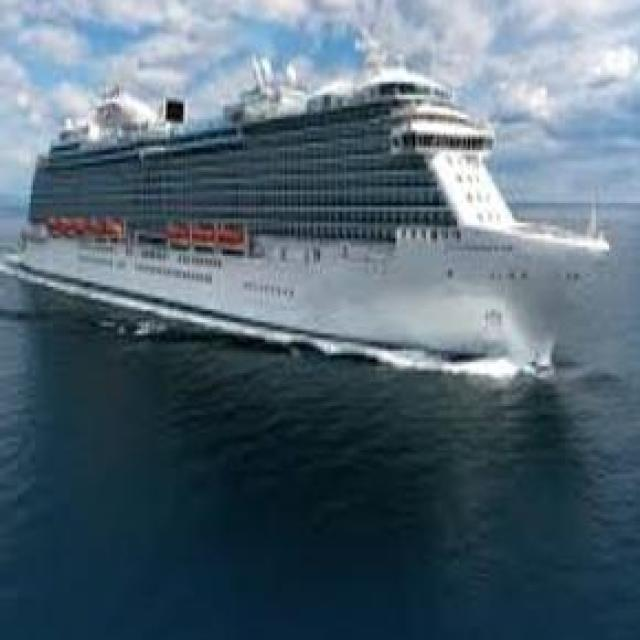passenger ship: (18, 71, 610, 369)
